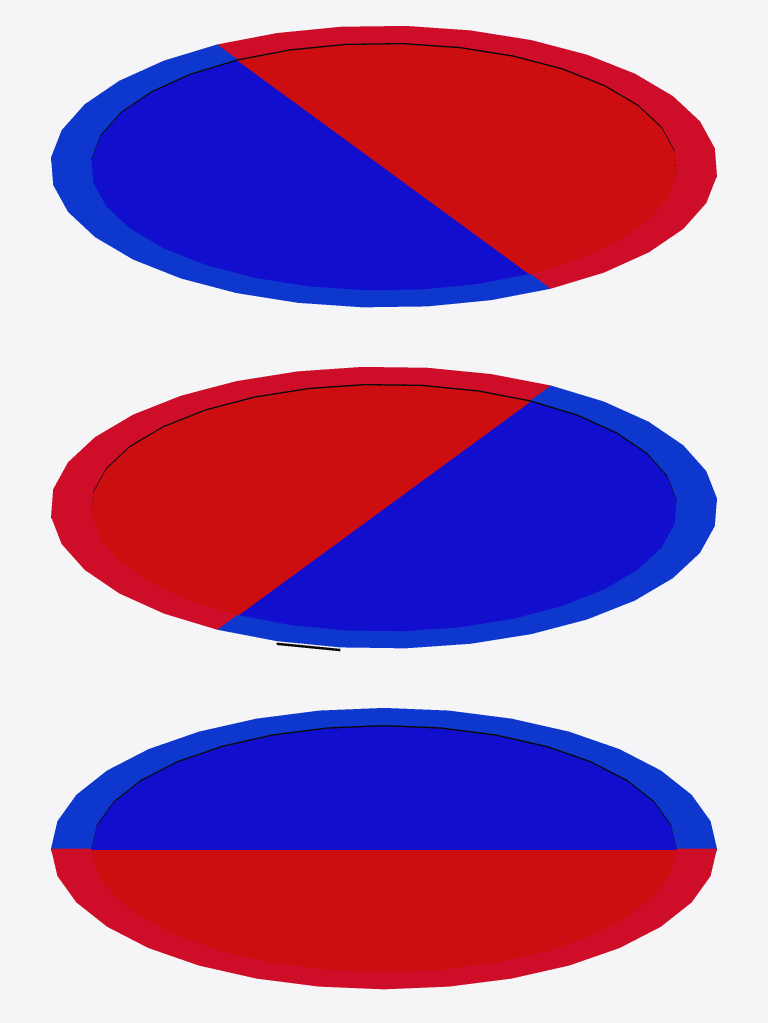
The model's file is Steer Hold 1.fbx.
3 renders of one model, top to bottom at view 1: azimuth 30°, elevation 25°; view 2: azimuth 150°, elevation 25°; view 3: azimuth 270°, elevation 25°, orthographic.
Parts seen in each view (by area): view 1: Hold Beacon; view 2: Hold Beacon; view 3: Hold Beacon.
Part boxes in pixels (bbox=[...]): Hold Beacon: bbox=[51, 26, 716, 307]; Hold Beacon: bbox=[51, 367, 716, 651]; Hold Beacon: bbox=[51, 708, 716, 989].
Size of the model in its own units: 200 by 1.16 by 200.
